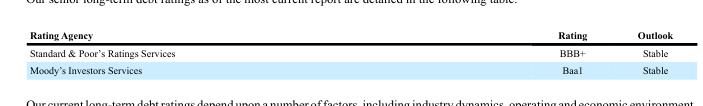table: (28, 28, 672, 75)
table column: (28, 28, 365, 75), (365, 28, 611, 75), (611, 28, 672, 75)
table column header: (28, 28, 672, 43)
table row: (28, 43, 672, 61), (28, 28, 672, 43), (28, 61, 672, 75)
